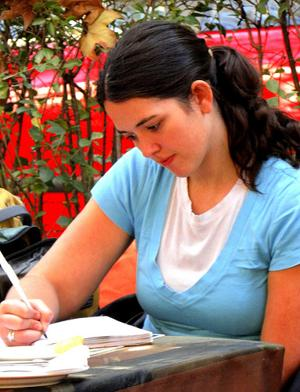person: (1, 23, 300, 381)
